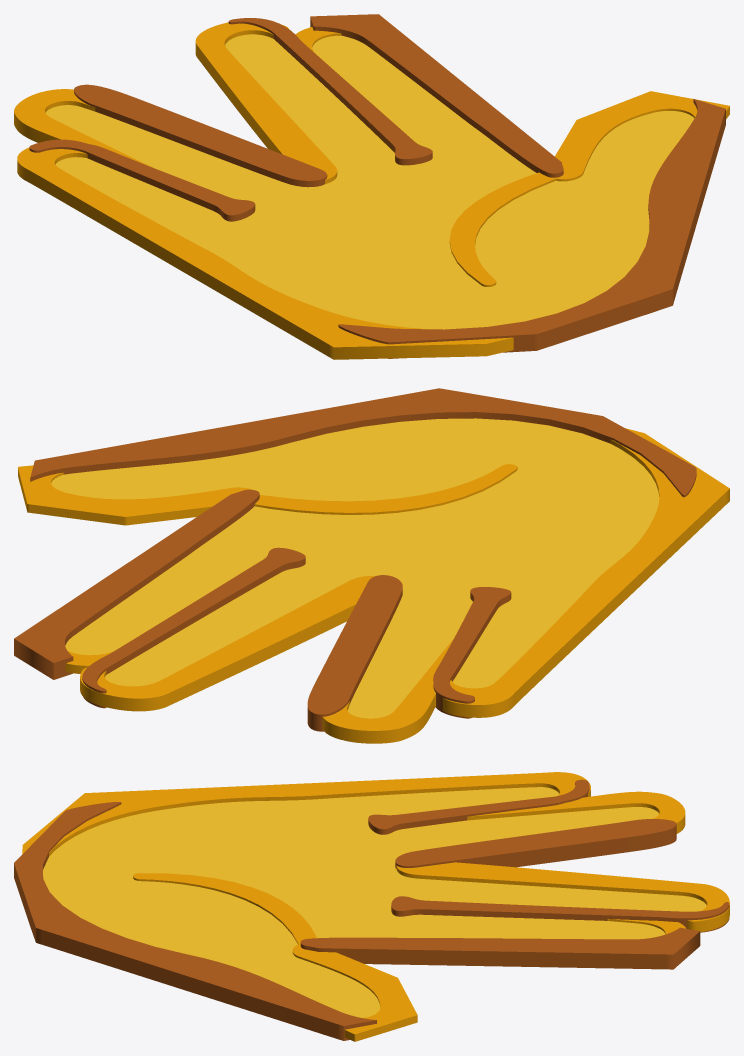
Rendered from emoji_u1f596.glb.
The picture shows the model from 3 angles, top to bottom: view 1: azimuth 30°, elevation 25°; view 2: azimuth 150°, elevation 25°; view 3: azimuth 270°, elevation 25°; orthographic projection. The views are drawn at different scales.
Parts seen in each view (by area): view 1: emoji_u1f596; view 2: emoji_u1f596; view 3: emoji_u1f596.
Part boxes in pixels (<box>): emoji_u1f596: <box>14,14,729,359</box>; emoji_u1f596: <box>14,388,729,743</box>; emoji_u1f596: <box>14,772,729,1041</box>.
Bounding box in the file's own units: 0.0299 × 0.0008 × 0.0348.
